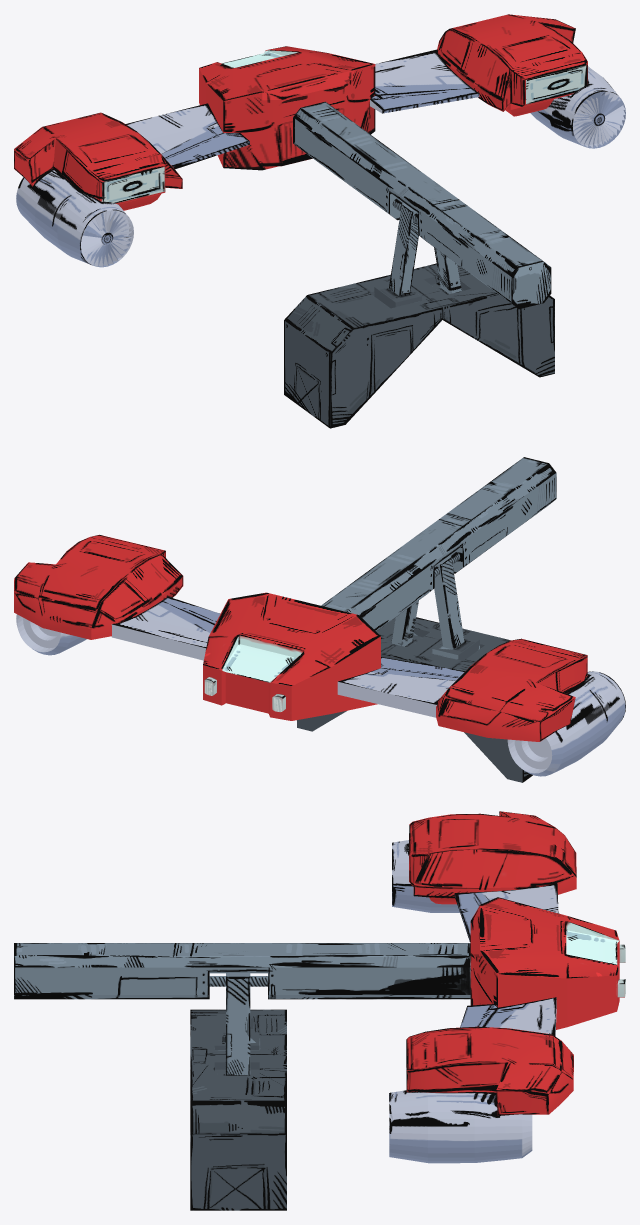
Rendered from ship.gltf.
3 renders of one model, top to bottom at view 1: azimuth 30°, elevation 25°; view 2: azimuth 150°, elevation 25°; view 3: azimuth 270°, elevation 25°, orthographic. The views are drawn at different scales.
Parts seen in each view (by area): view 1: Ship; view 2: Ship; view 3: Ship.
Boxes of the visible parts, box(x1,y1,x2,y2) form: Ship: box(14, 14, 625, 428); Ship: box(14, 457, 625, 782); Ship: box(14, 811, 625, 1210).
Size of the model in its own units: 12.76 by 4.79 by 11.68.
Materials: 3 (3 with a texture image).
